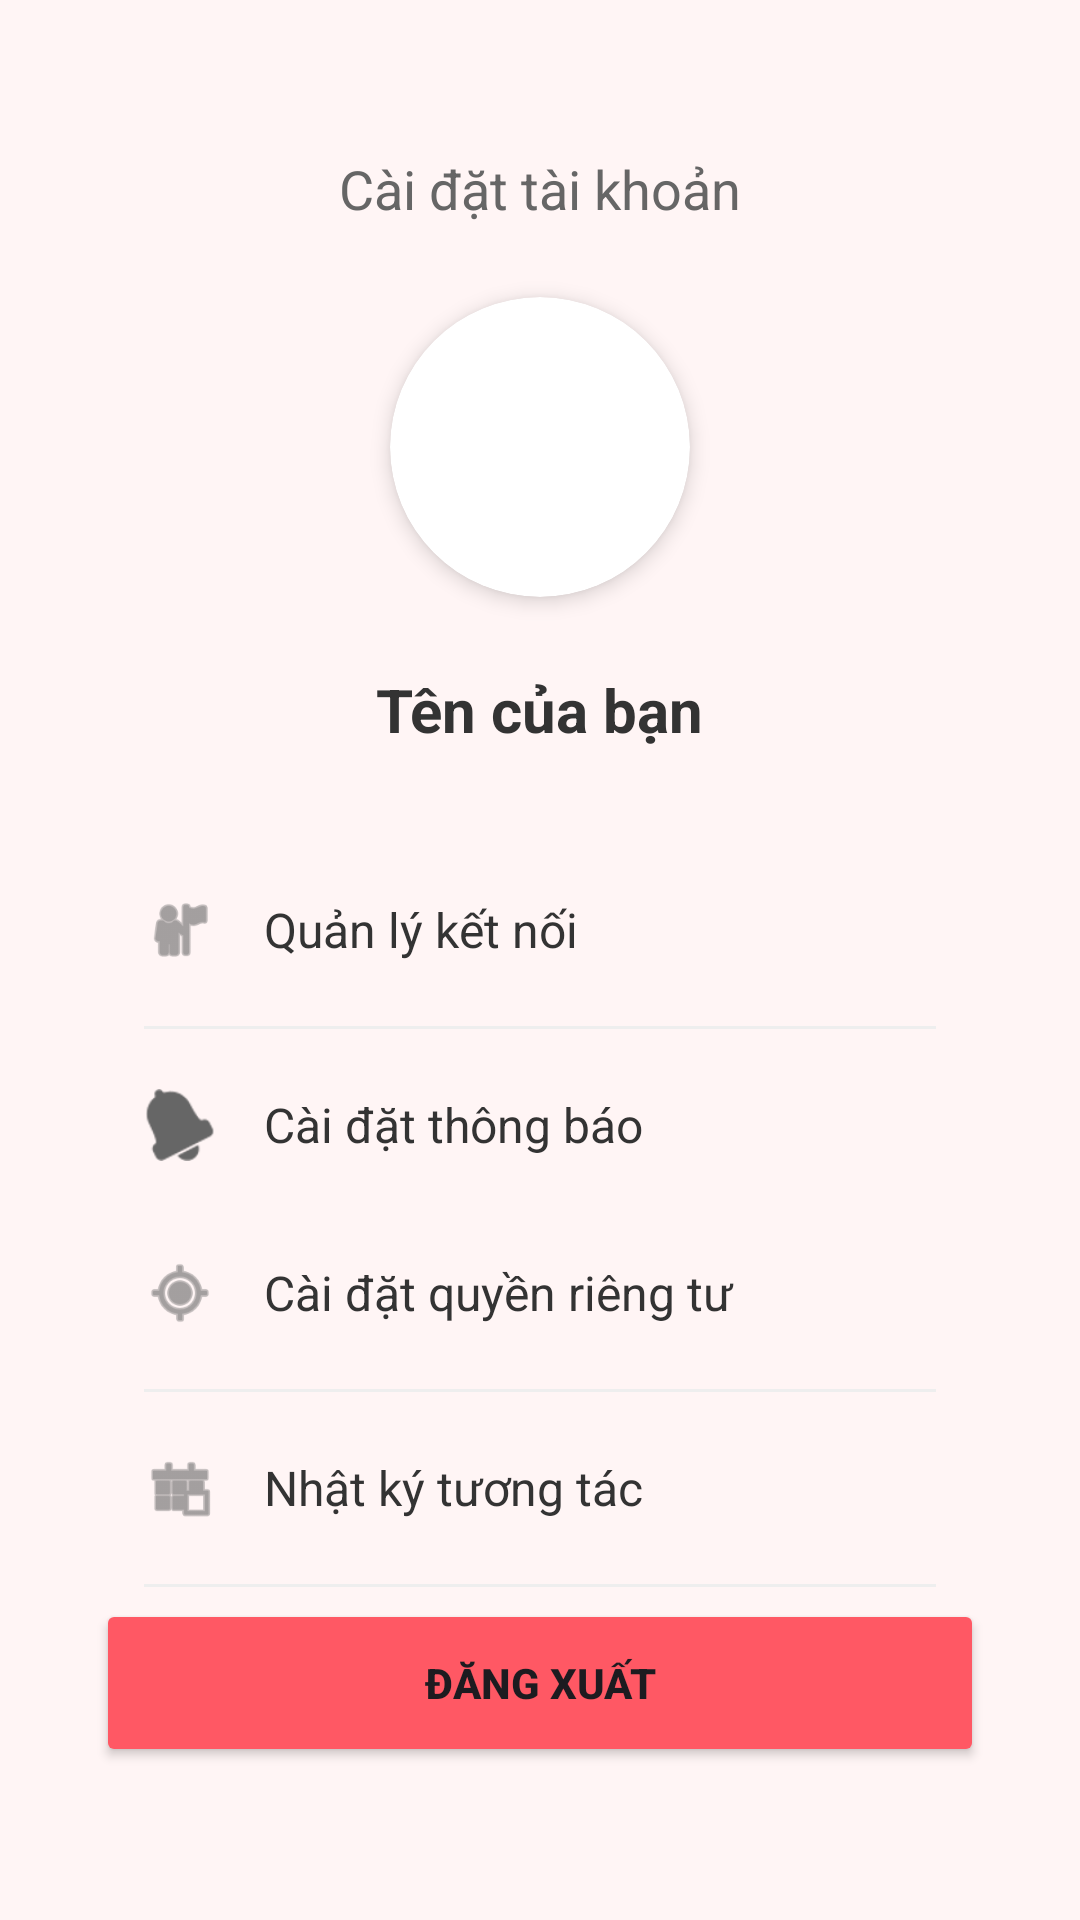

Locate icon controls on the screen. Image size 1080×1920, boxes as {"left": x1, "top": y1, "right": x2, "bottom": y2}.
mylocation: {"left": 151, "top": 1264, "right": 209, "bottom": 1322}
myplaces: {"left": 154, "top": 903, "right": 208, "bottom": 957}
popup reminder: {"left": 146, "top": 1089, "right": 214, "bottom": 1161}
today: {"left": 151, "top": 1462, "right": 210, "bottom": 1516}
